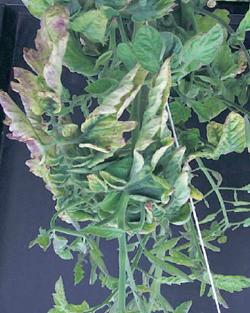Tomato leaf yellow virus: (81, 64, 149, 151), (209, 102, 247, 166), (182, 23, 223, 79), (130, 23, 167, 75), (199, 265, 248, 296), (73, 7, 113, 42)
